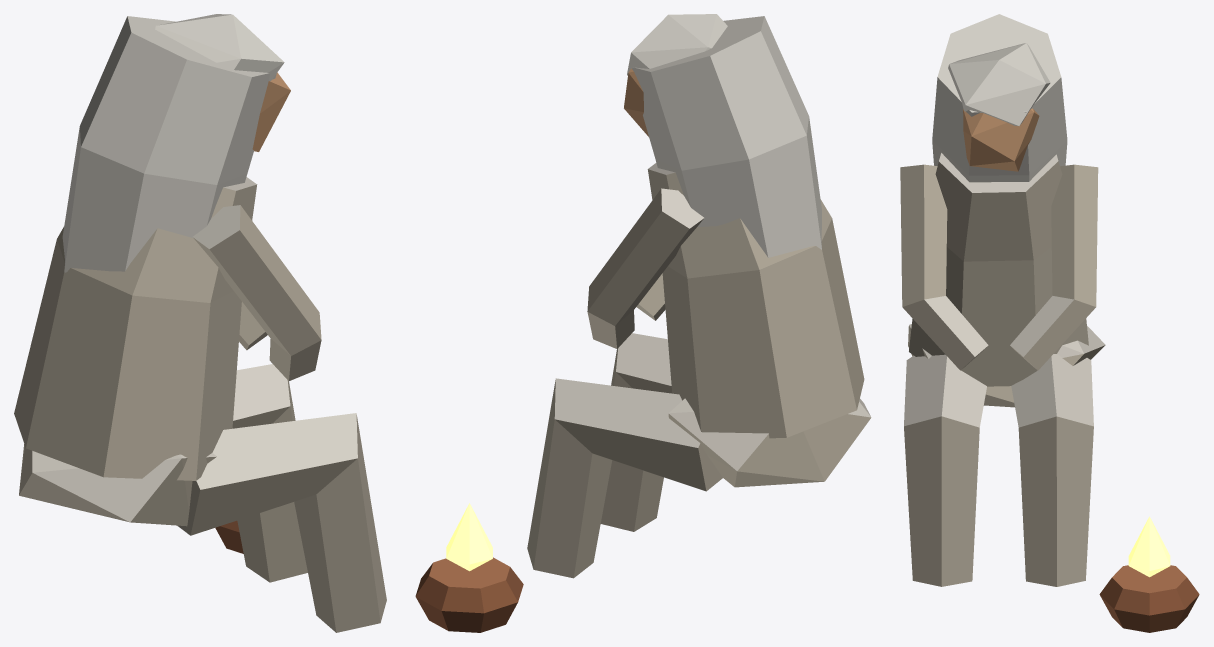
File: sleepvirgin.glb
3 renders of one model, left to right at view 1: azimuth 30°, elevation 25°; view 2: azimuth 150°, elevation 25°; view 3: azimuth 270°, elevation 25°, orthographic. The views are drawn at different scales.
Parts seen in each view (by area): view 1: body_m, base, head_m; view 2: body_m, base, head_m; view 3: base, body_m, head_m.
Boxes of the visible parts, left/top/right/bottom form: body_m: left=14, top=177, right=321, bottom=480; base: left=19, top=364, right=386, bottom=632; head_m: left=62, top=14, right=290, bottom=272; body_m: left=587, top=163, right=864, bottom=438; base: left=415, top=333, right=871, bottom=632; head_m: left=624, top=14, right=821, bottom=257; base: left=904, top=324, right=1199, bottom=632; body_m: left=900, top=153, right=1098, bottom=386; head_m: left=932, top=14, right=1067, bottom=182.
Size of the model in its own units: 0.2935 by 0.4517 by 0.239.
